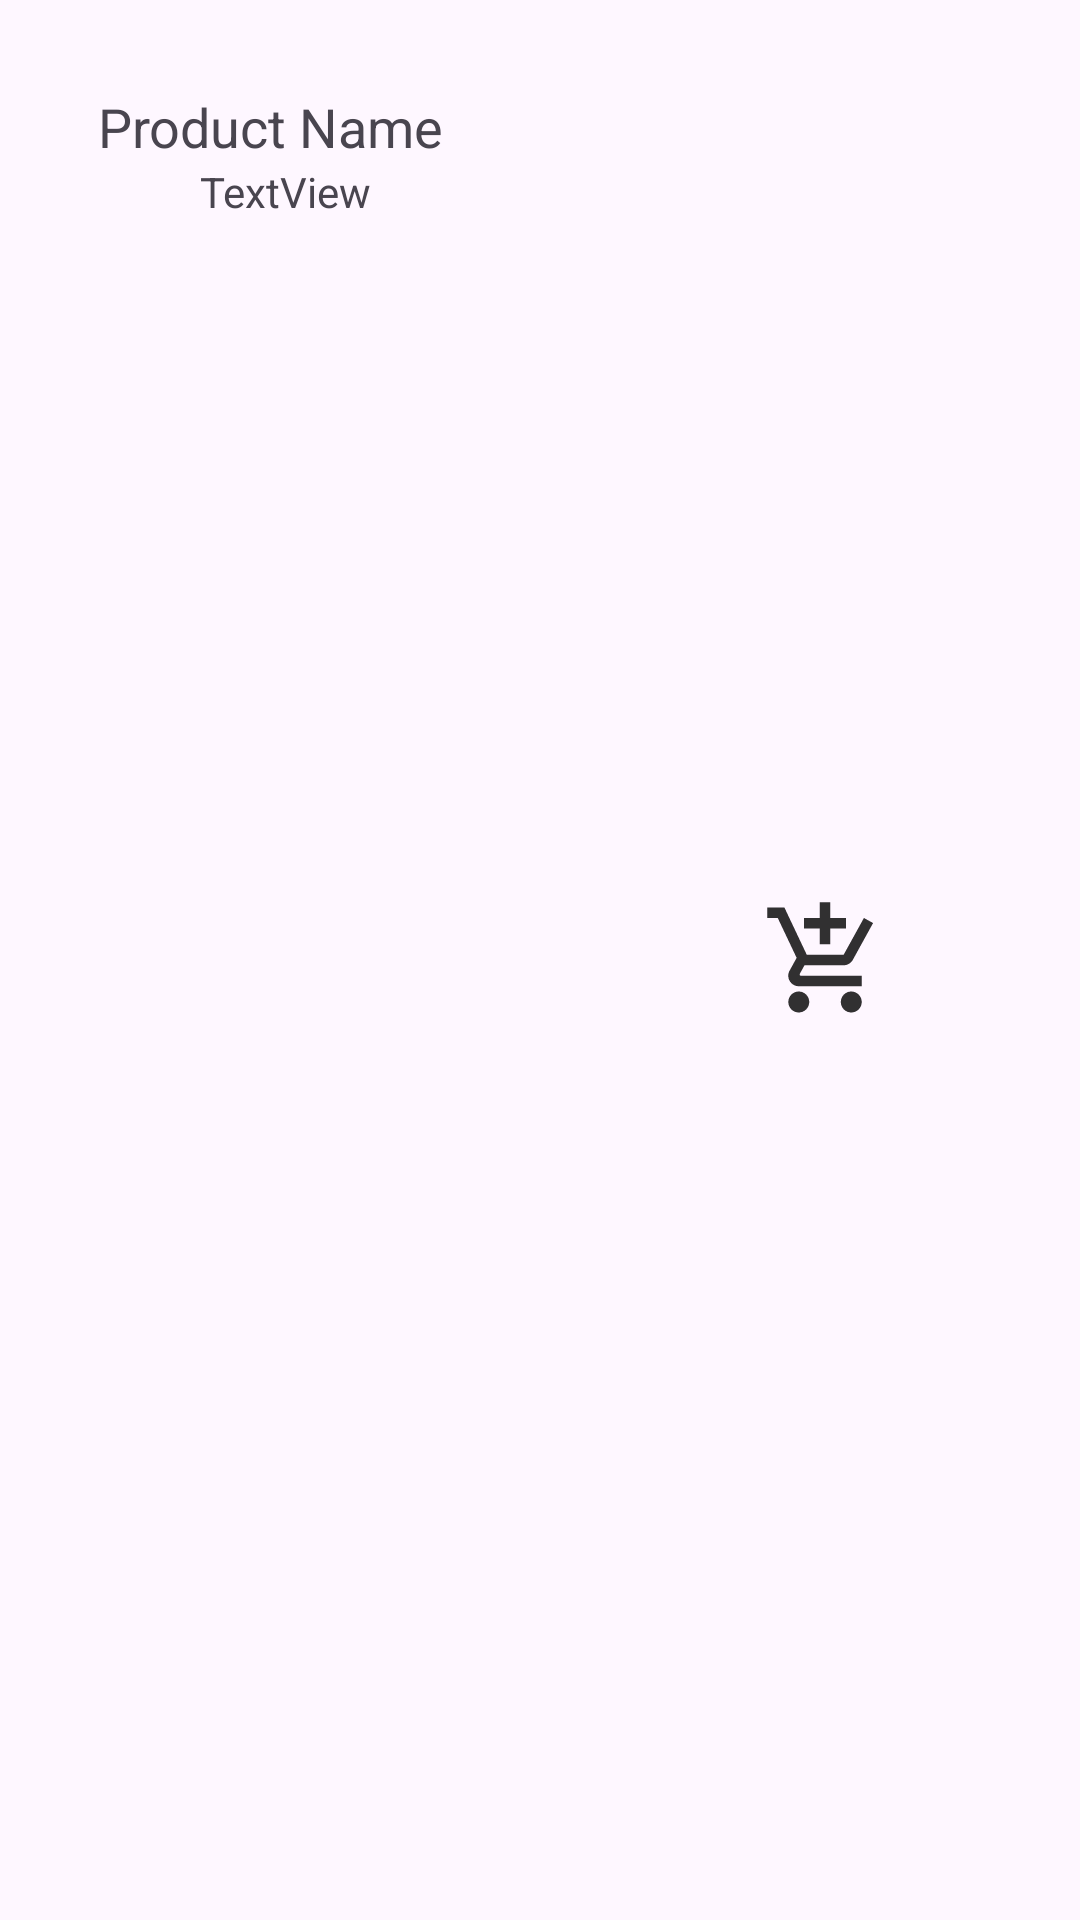

Icons on this 1080 × 1920 Android screen, each with the point to tap as (x,y):
shopping cart: (820,957)
